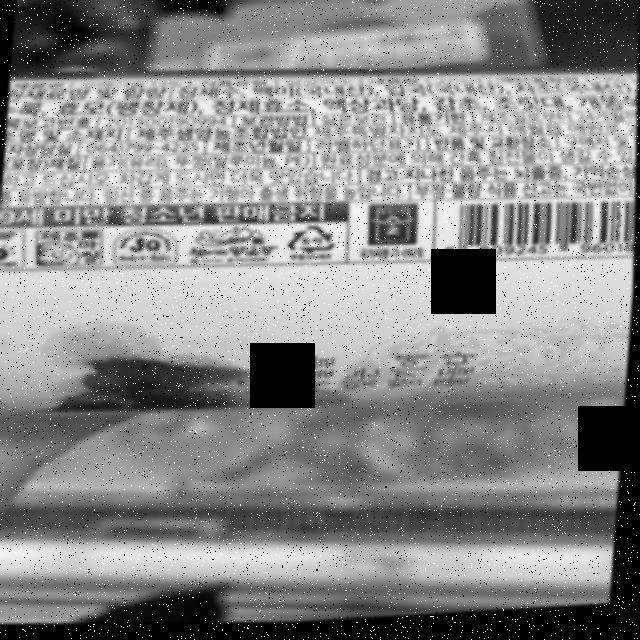Glass: (285, 226, 338, 261)
